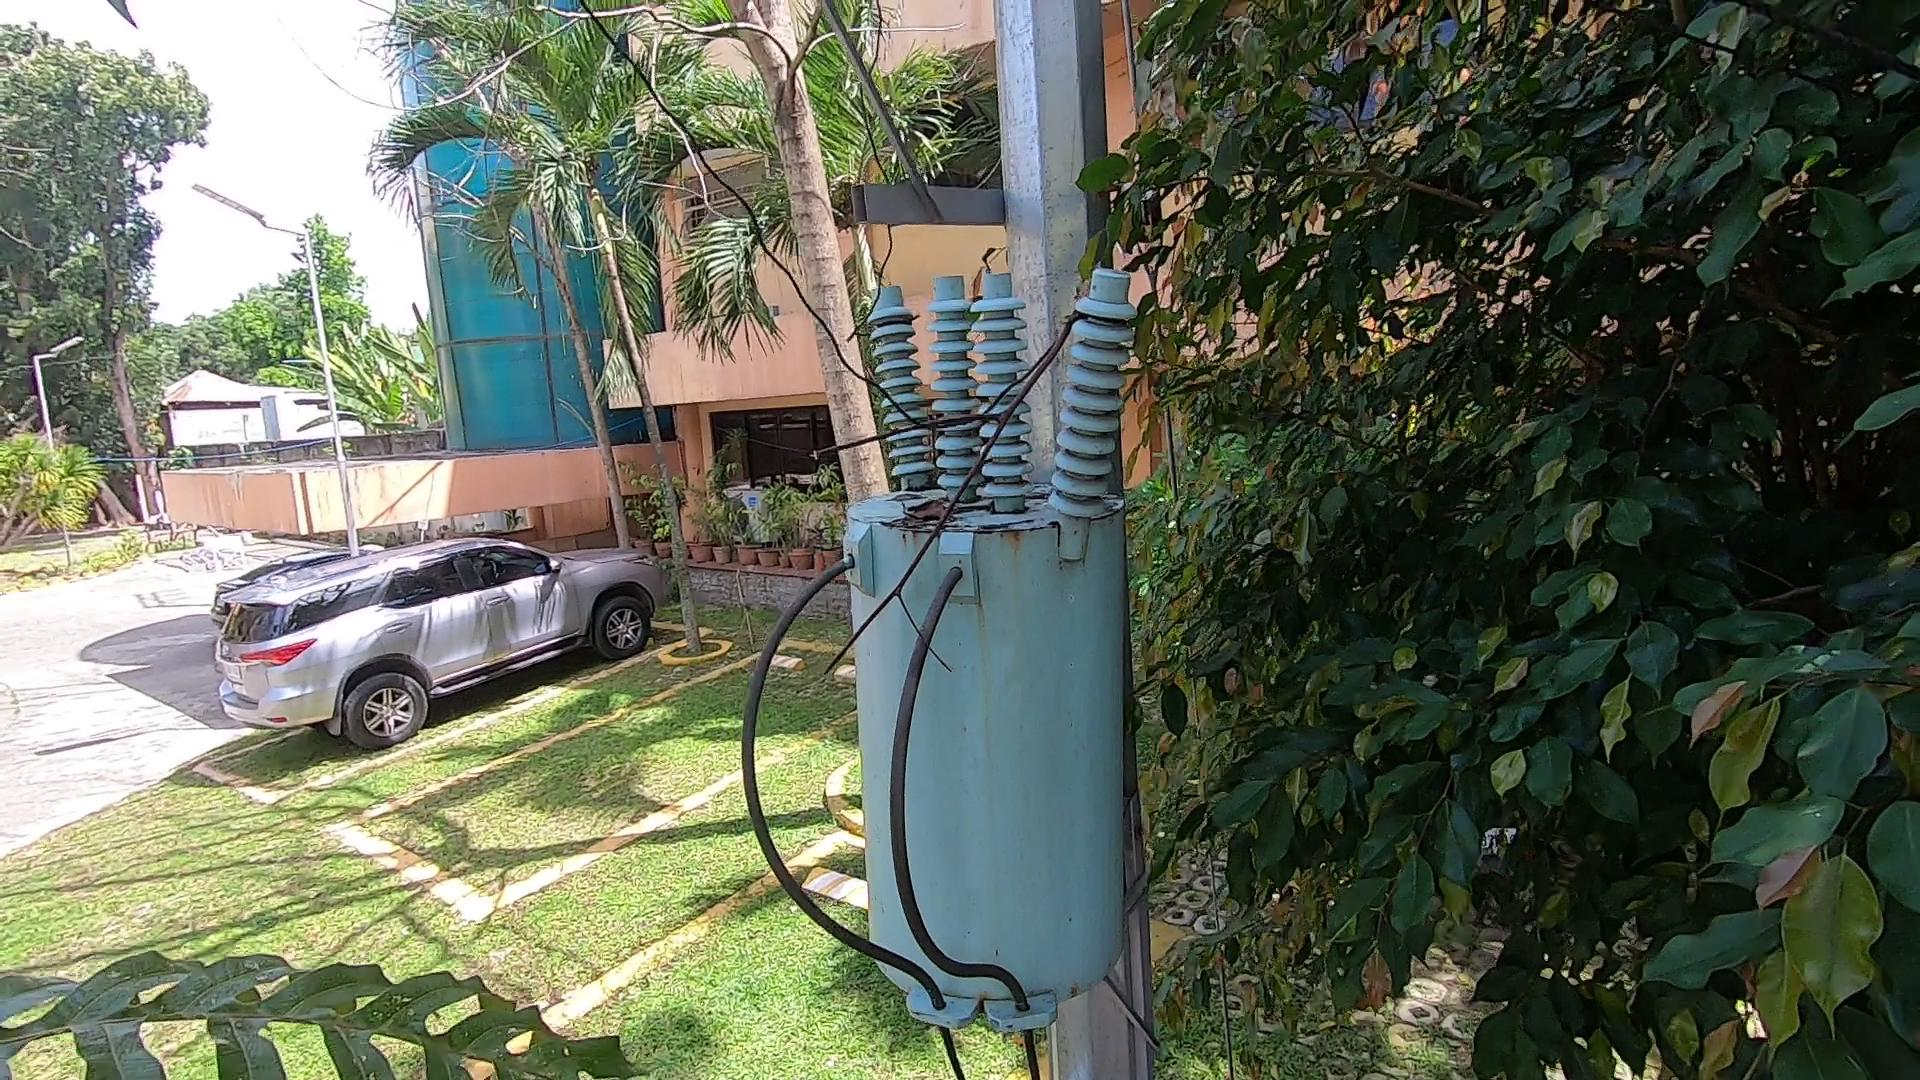leaf: (897, 487, 972, 546)
tree branch: (770, 182, 1126, 691)
